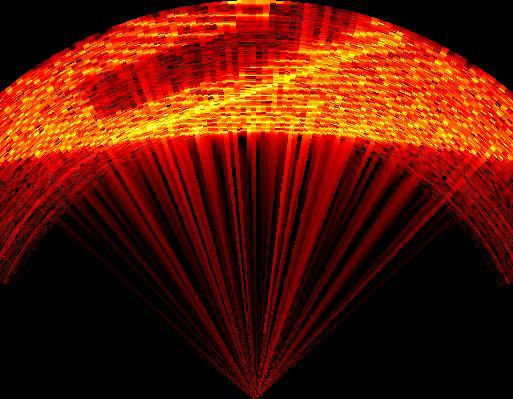pipe: (76, 6, 407, 146)
